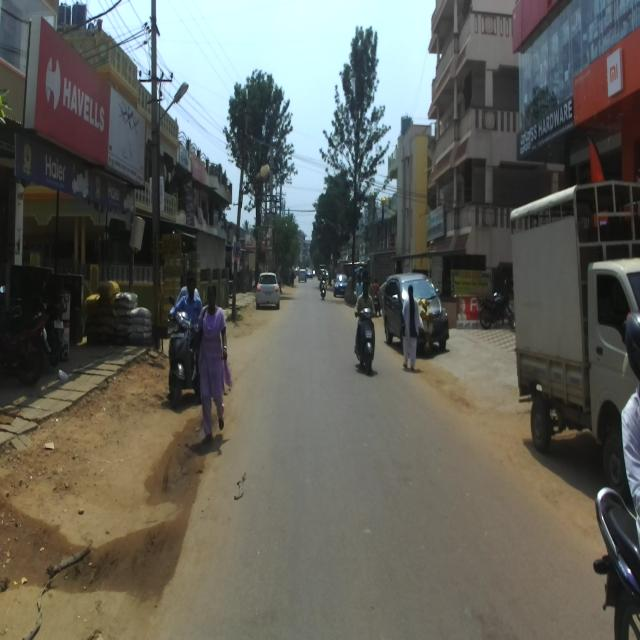motorcycle ahead at: (168, 306, 196, 402), (352, 302, 379, 382)
person ahead at: (193, 285, 234, 440), (400, 283, 422, 369)
truck ahead at: (506, 178, 635, 484)
